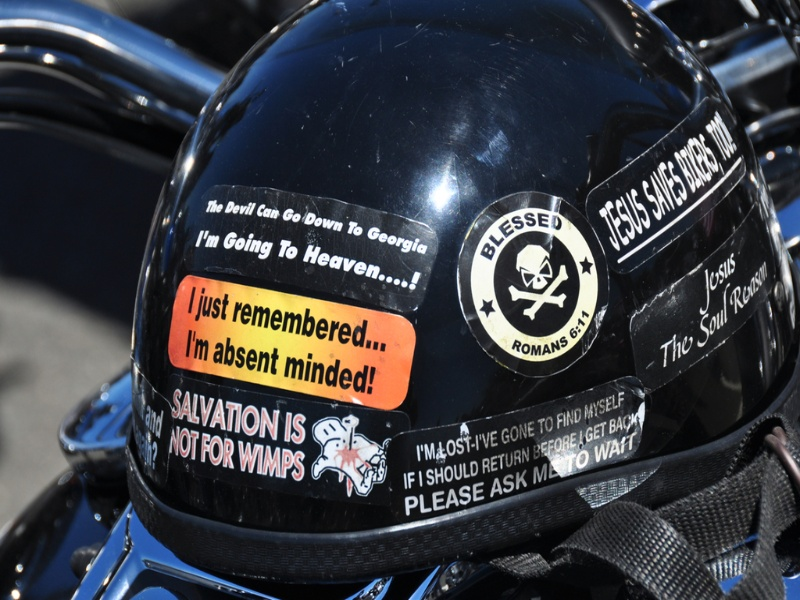helmet: (130, 1, 800, 563)
